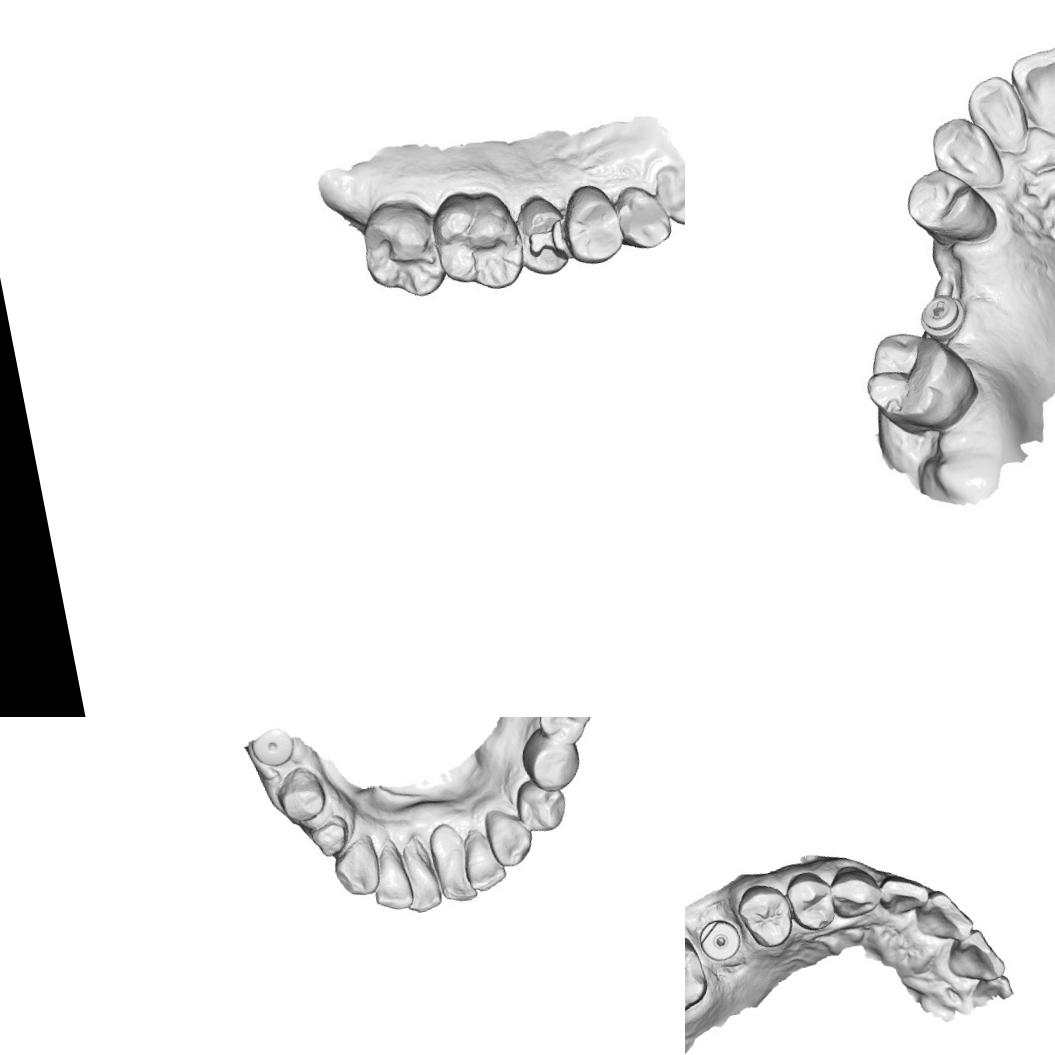canine: (926, 109, 1010, 199), (610, 182, 676, 254), (327, 830, 385, 898), (482, 802, 538, 869), (824, 859, 884, 921)
implant: (696, 914, 746, 965), (246, 722, 298, 770)
implant_minus: (912, 284, 975, 350)
incisor: (965, 71, 1039, 164), (1006, 42, 1055, 140), (426, 818, 478, 907), (940, 923, 1008, 989), (910, 882, 977, 948), (364, 834, 415, 914), (395, 836, 443, 915), (458, 822, 509, 894), (875, 868, 932, 920), (652, 159, 685, 227)
inlay: (522, 214, 572, 268)
molar: (858, 320, 990, 444), (425, 179, 530, 300), (352, 194, 450, 307), (685, 929, 713, 1018), (529, 717, 603, 747)
premolar: (904, 161, 1002, 260), (559, 182, 628, 273), (515, 720, 586, 797), (733, 878, 798, 952), (782, 866, 840, 936), (268, 761, 330, 826), (511, 771, 572, 836)
